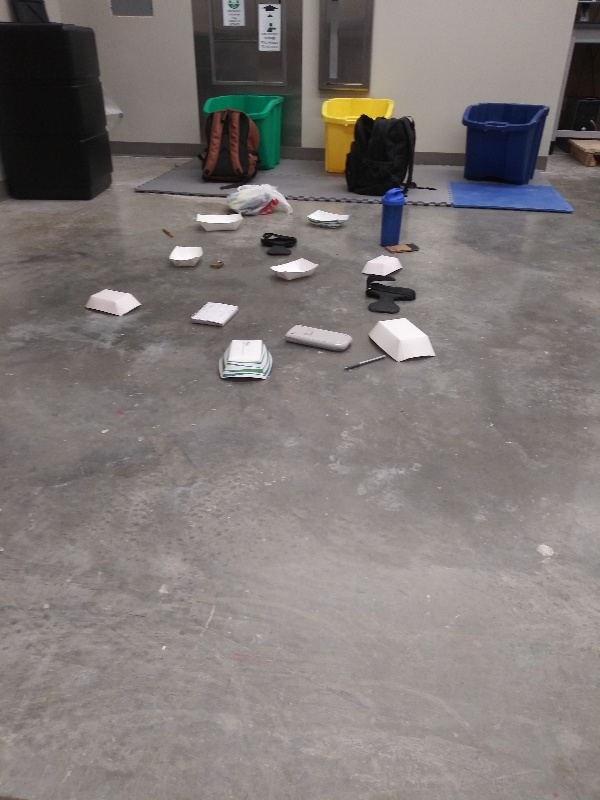plate: (366, 315, 438, 363), (210, 336, 278, 383), (81, 284, 144, 320), (191, 207, 247, 238), (267, 254, 322, 283), (165, 239, 207, 273), (356, 252, 405, 281), (305, 205, 352, 233)
